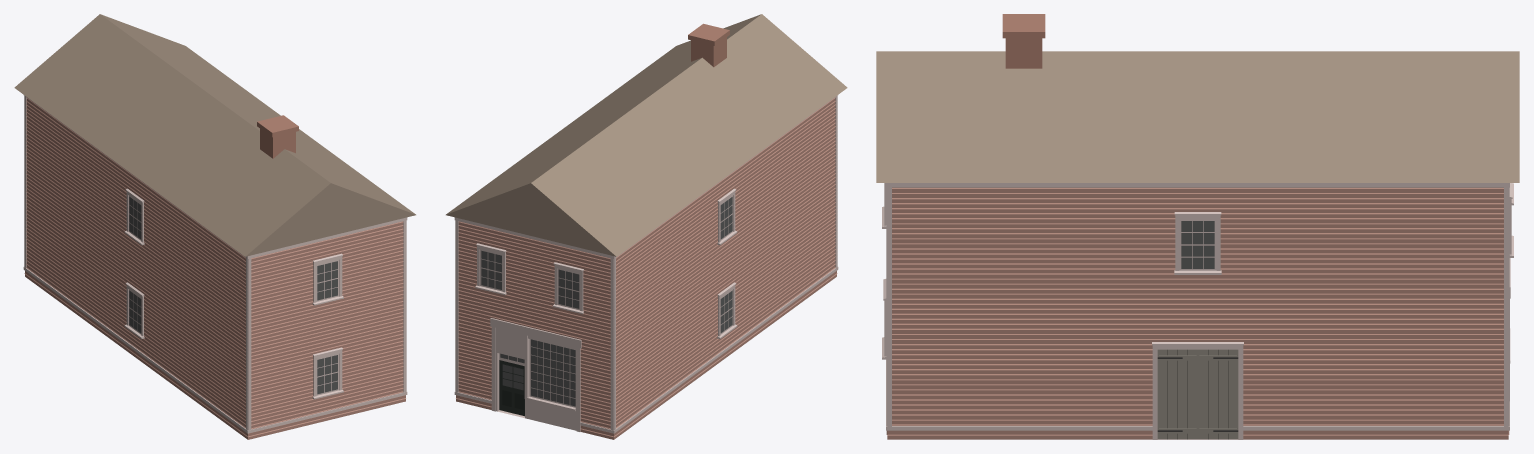
Rendered from recon_1835_core_c3_033__inferred_1835.glb.
The picture shows the model from 3 angles, left to right: view 1: azimuth 30°, elevation 25°; view 2: azimuth 150°, elevation 25°; view 3: azimuth 270°, elevation 25°; orthographic projection. The views are drawn at different scales.
Parts seen in each view (by area): view 1: recon_1835_core_c3_033__inferred_1835; view 2: recon_1835_core_c3_033__inferred_1835; view 3: recon_1835_core_c3_033__inferred_1835.
Boxes of the visible parts, bbox=[...] form: recon_1835_core_c3_033__inferred_1835: bbox=[14, 14, 415, 439]; recon_1835_core_c3_033__inferred_1835: bbox=[446, 14, 847, 439]; recon_1835_core_c3_033__inferred_1835: bbox=[876, 14, 1519, 439].
Bounding box in the file's own units: 6.3 × 9.16 × 14.7.
